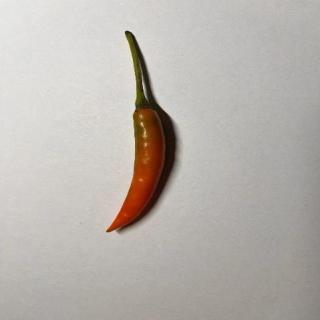Cabai Merah: (106, 31, 166, 233)
